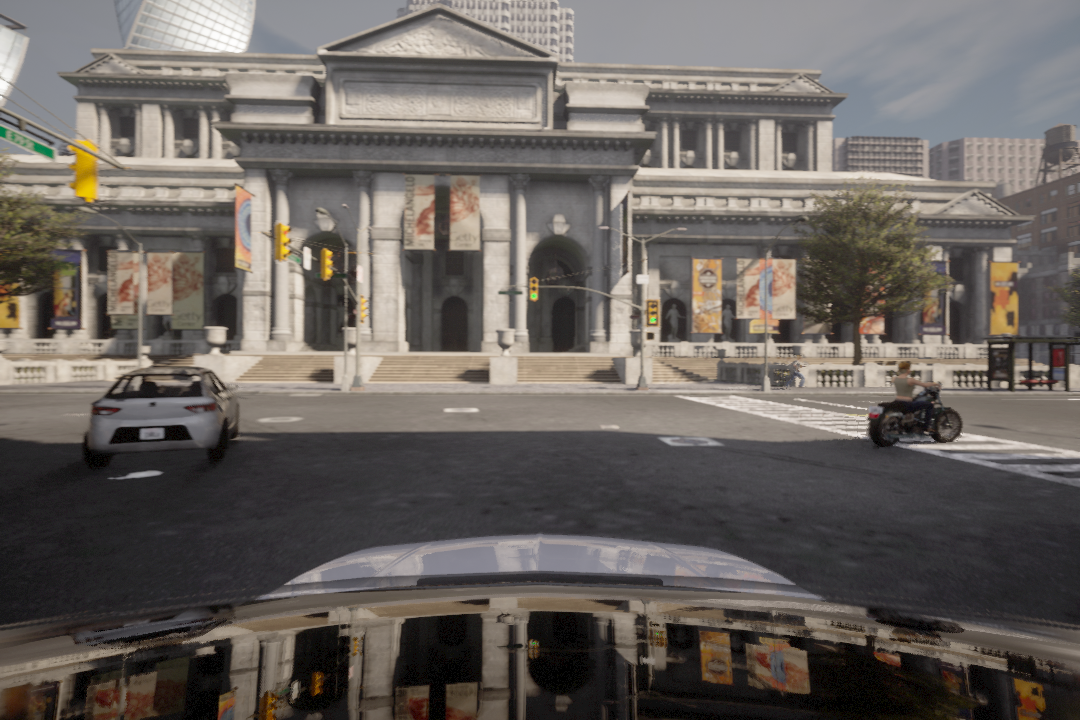TrafficLight: (647, 299, 662, 329), (528, 277, 541, 303)
walkside: (676, 391, 1080, 492)
